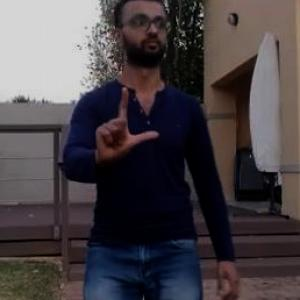land_hand: (90, 79, 160, 169)
